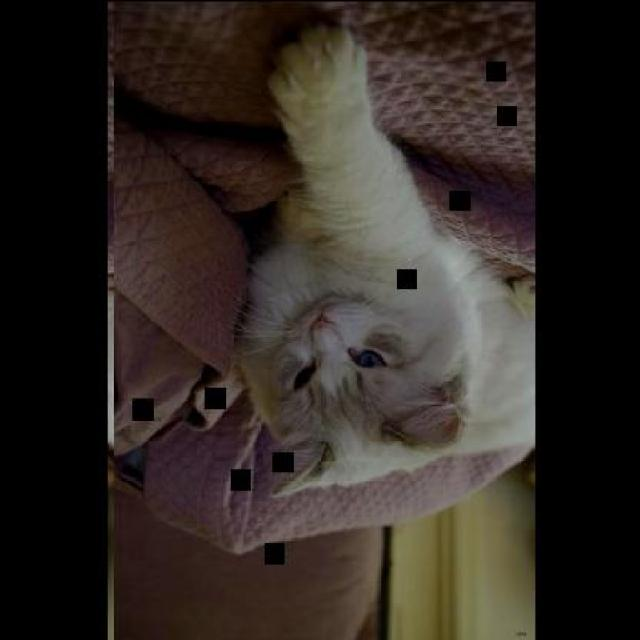unauthorized: (231, 19, 534, 498)
